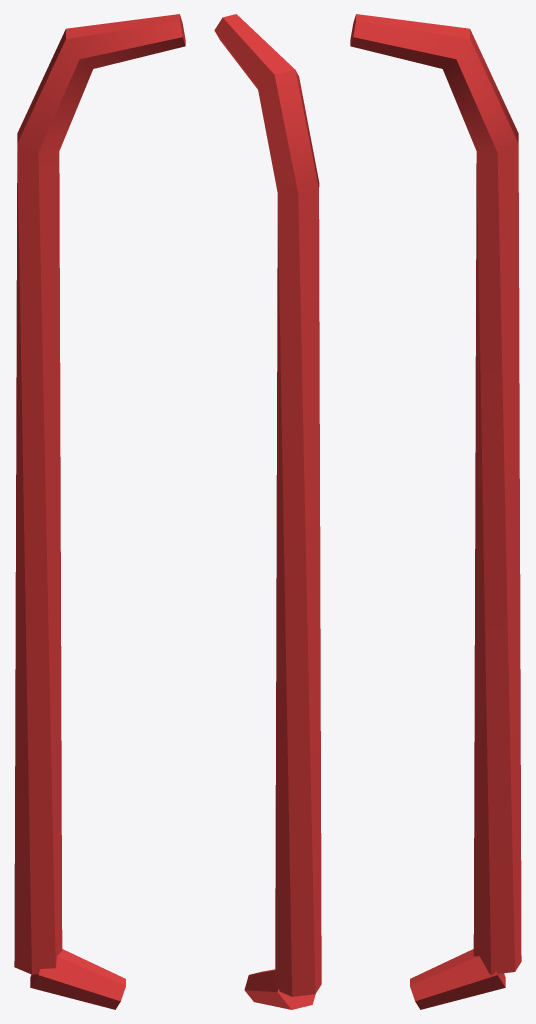
Rendered from Crowbar.fbx.
3 views of the same model, side by side, from view 1: azimuth 90°, elevation 25°; view 2: azimuth 210°, elevation 25°; view 3: azimuth 270°, elevation 25° (orthographic). The views are drawn at different scales.
Parts seen in each view (by area): view 1: Crowbar; view 2: Crowbar; view 3: Crowbar.
Part boxes in pixels (x1=…): Crowbar: x1=14, y1=14, x2=185, y2=1009; Crowbar: x1=214, y1=14, x2=321, y2=1009; Crowbar: x1=350, y1=14, x2=521, y2=1009.
Bounding box in the file's own units: 0.12 × 2.65 × 0.4147.
1 material, 1 textured.
